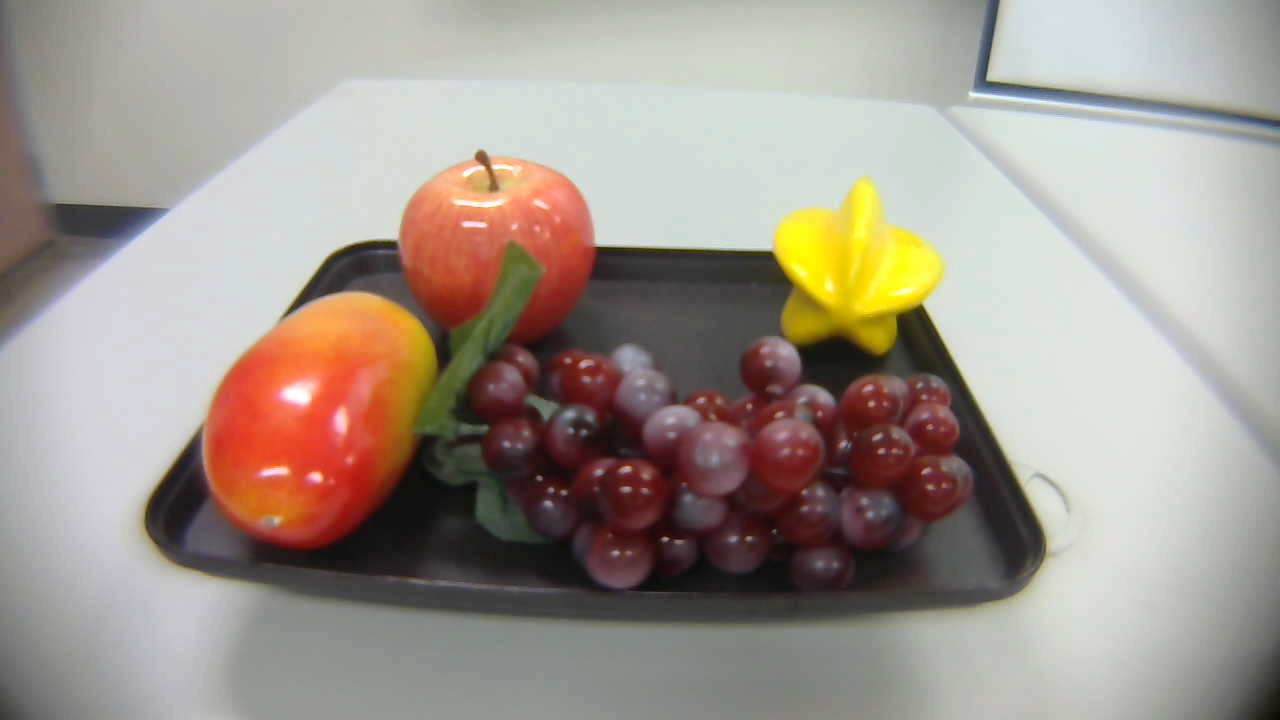grape: (413, 224, 985, 598)
red apple: (388, 146, 603, 356)
red mango: (168, 284, 448, 546)
star fruit: (763, 173, 950, 376)
